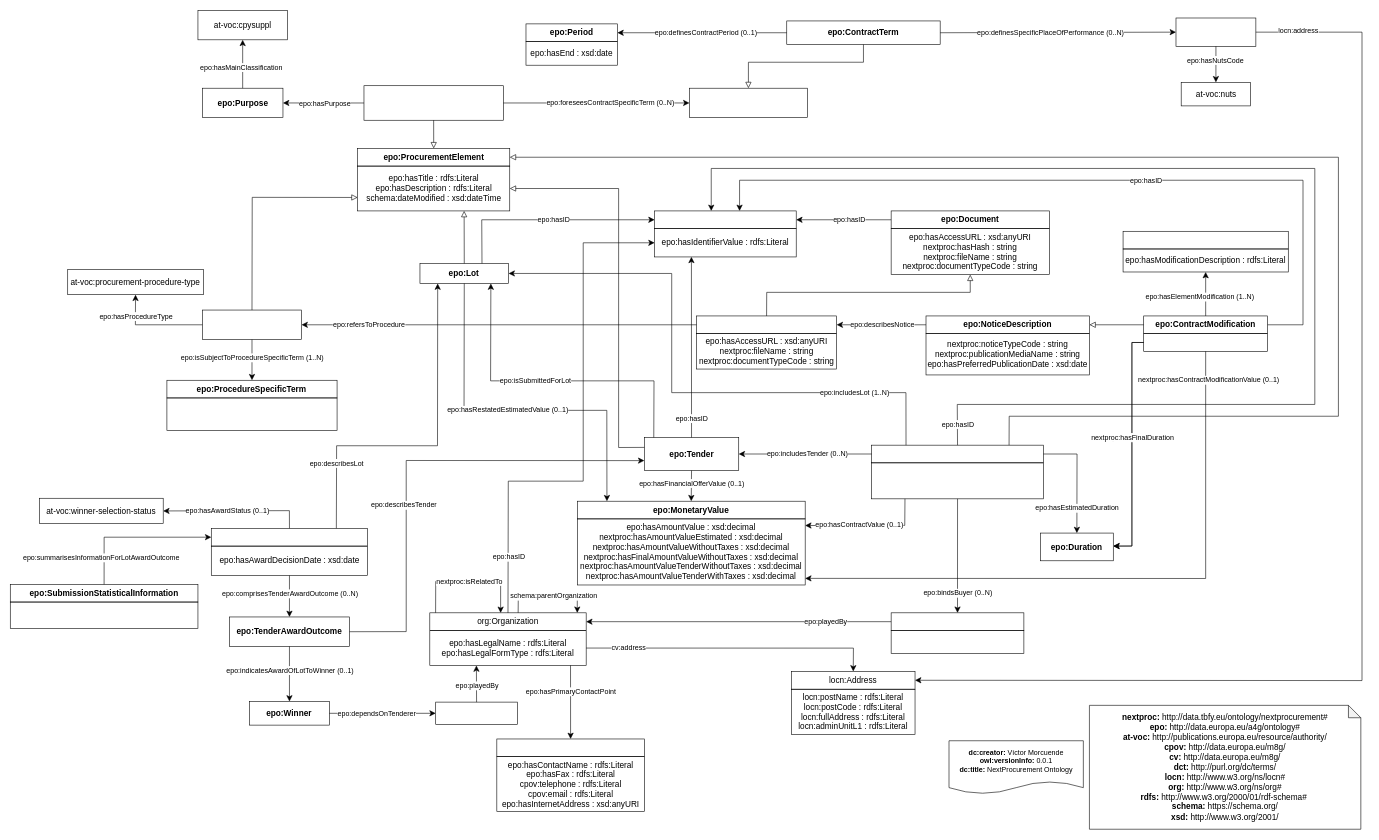
The diagram is 1379 pixels wide and 840 high, and some of its shapes have lost their labels. The shapes that lost their labels are listed below. From the top down, each one's centre as x and y in pixels, then its label:
point 1215,31: dct:Location
point 433,102: epo:ProcurementObject
point 748,103: epo:ContractSpecificTerm
point 725,219: epo:Identifier
point 1205,240: epo:Element ModificationDescription
point 252,324: epo:Procedure
point 766,324: epo:Notice
point 1205,342: dct:identifier : string
point 251,413: epo:hasReceiptDeadline : xsd:dateTime nextproc: hasReceiptDeadlineDescription
point 957,454: epo:Contract
point 957,480: epo:hasEntryIntoForceDate : xsd:date epo:hasContractConclusionDate : xsd date
point 289,537: epo:LotAwardOutcome
point 104,615: epo:hasReceivedTenders : xsd:integer
point 957,621: epo:Buyer
point 957,641: epo:hasBuyerProfile : xsd:anyURI
point 476,713: epo:Tenderer
point 570,747: cpov:ContactPoint
